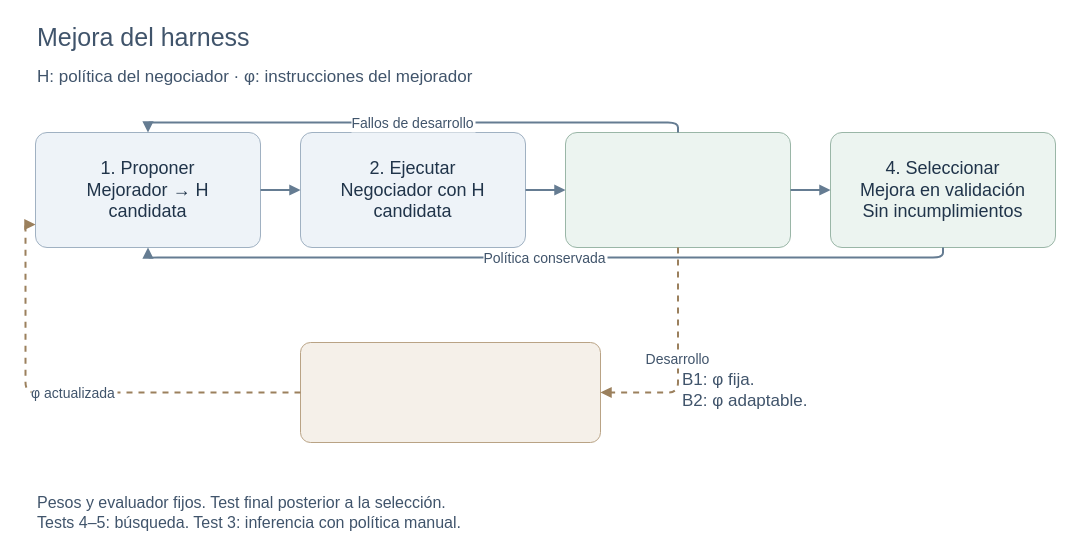
Image size: 1073x559. Some labels were removed from this diagram. Here are the shapes that lost their labels. From the top down, the centre of each, then its label:
point 677,190: 3. Evaluar Decisión y restricciones
point 450,392: Solo B2: adaptar φ Instrucciones del mejorador
